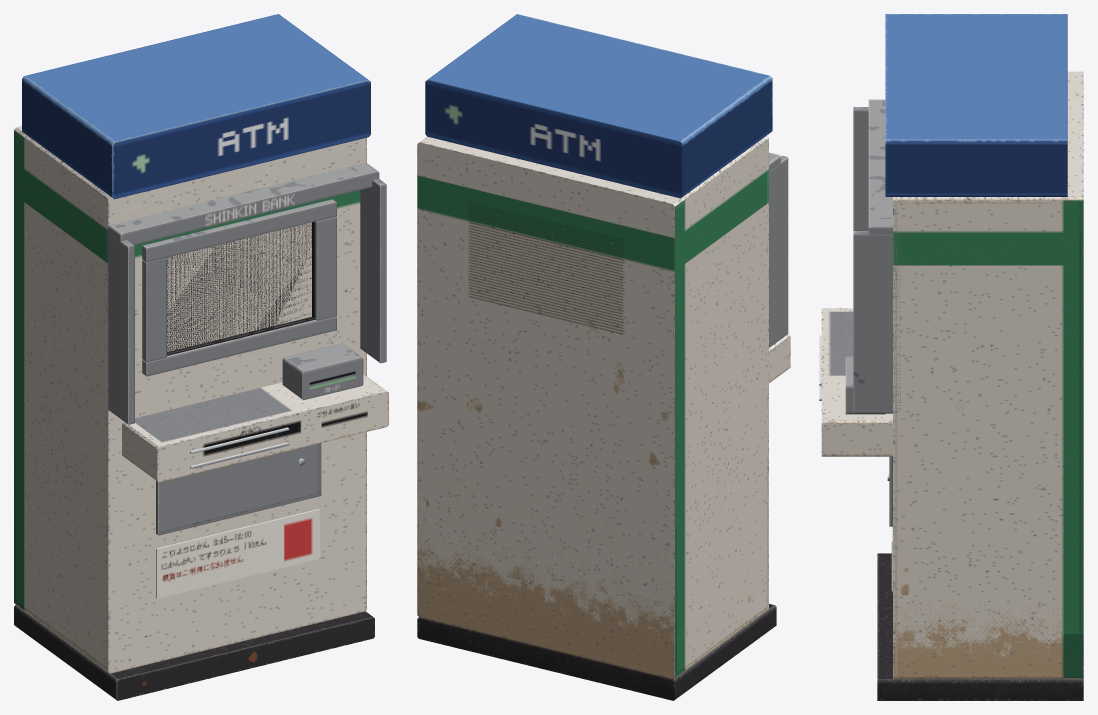
File: atm.glb
3 views of the same model, side by side, from view 1: azimuth 30°, elevation 25°; view 2: azimuth 150°, elevation 25°; view 3: azimuth 270°, elevation 25° (orthographic).
Visible parts, largest first — view 1: body; view 2: body; view 3: body.
Part boxes in pixels (box(x1,y1,x2,y2)): body: box(14, 14, 388, 700); body: box(417, 14, 790, 700); body: box(819, 14, 1083, 700).
Bounding box in the file's own units: 0.7599 × 1.6 × 0.666.
3 materials, 3 textured.
